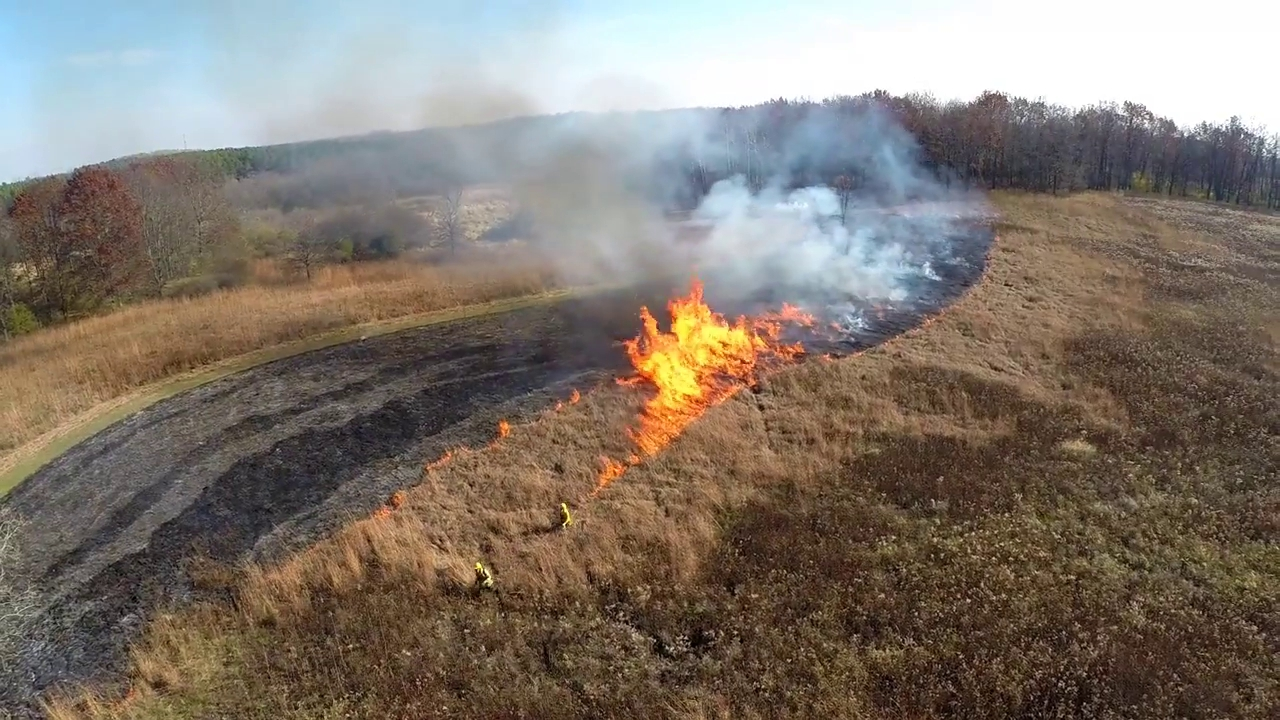forest_fire: (593, 280, 812, 495), (491, 419, 511, 444)
